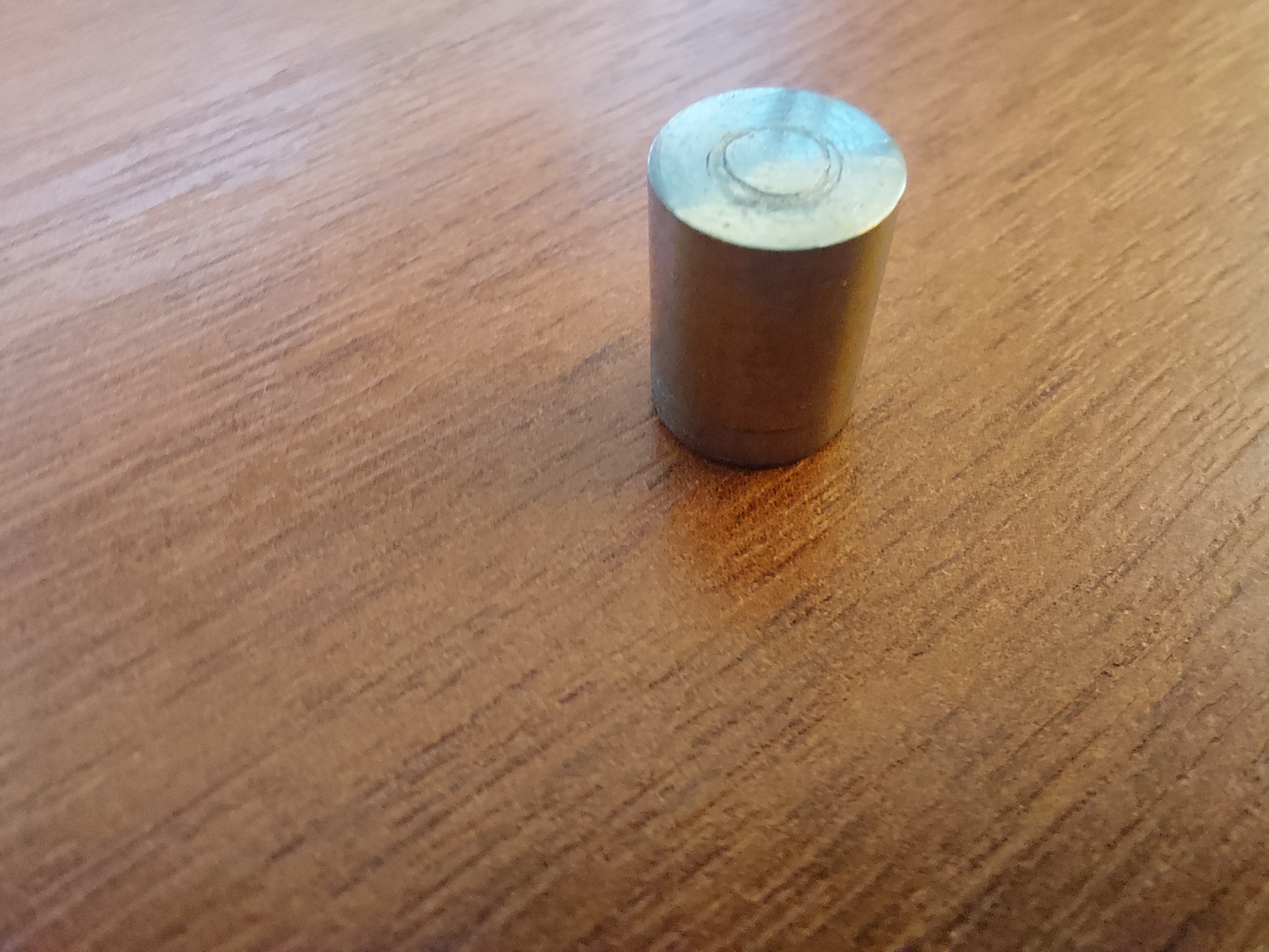tablet: (617, 81, 915, 523)
